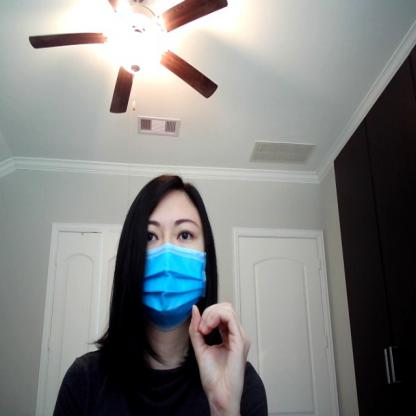zero: (188, 300, 258, 401)
